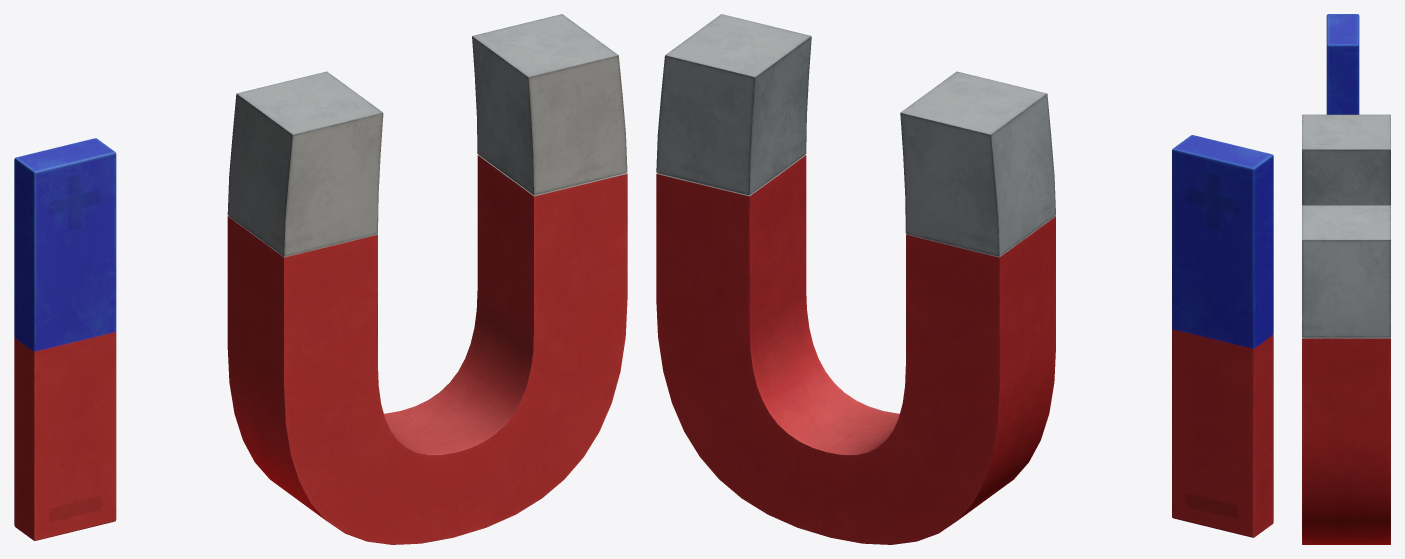
Rendered from magnet 1.gltf.
3 renders of one model, left to right at view 1: azimuth 30°, elevation 25°; view 2: azimuth 150°, elevation 25°; view 3: azimuth 270°, elevation 25°, orthographic. The views are drawn at different scales.
Visible parts, largest first — view 1: typeMesh1, pCube1; view 2: typeMesh1, pCube1; view 3: typeMesh1, pCube1.
Part boxes in pixels (box(x1,y1,x2,y2)): typeMesh1: box(227, 14, 627, 544); pCube1: box(14, 138, 116, 540); typeMesh1: box(656, 14, 1055, 544); pCube1: box(1172, 135, 1273, 537); typeMesh1: box(1302, 114, 1390, 544); pCube1: box(1326, 14, 1359, 114).
Size of the model in its own units: 14.76 by 11.04 by 2.5.
1 material, 1 textured.
